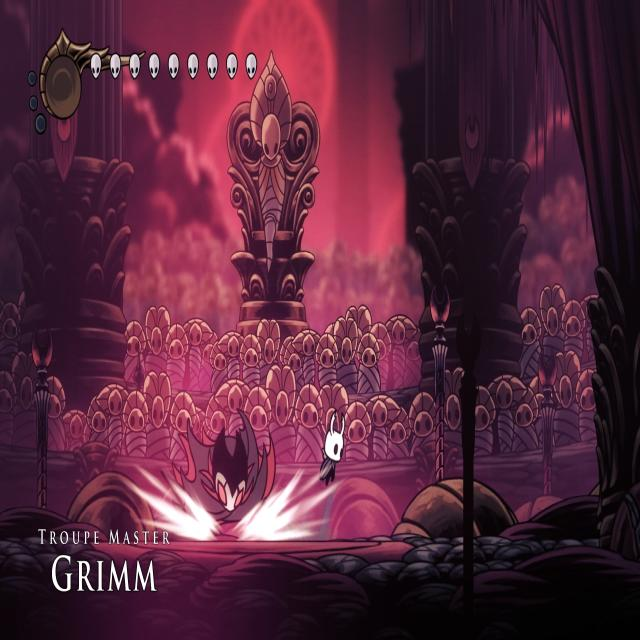Dive Dash: (158, 402, 280, 542)
Player: (317, 402, 347, 490)
